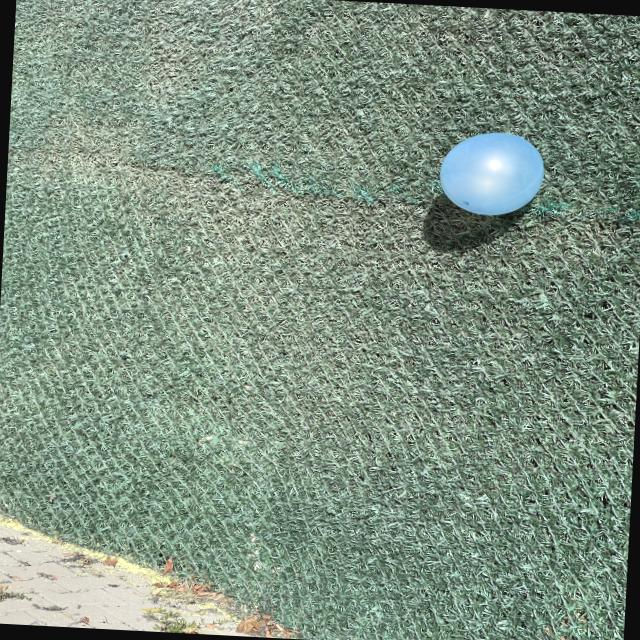balloon: (440, 133, 544, 216)
